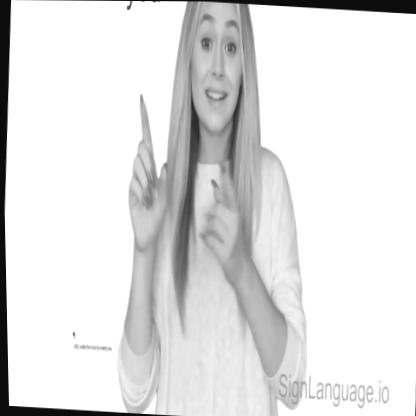NiceToMeetYou: (112, 87, 255, 288)
